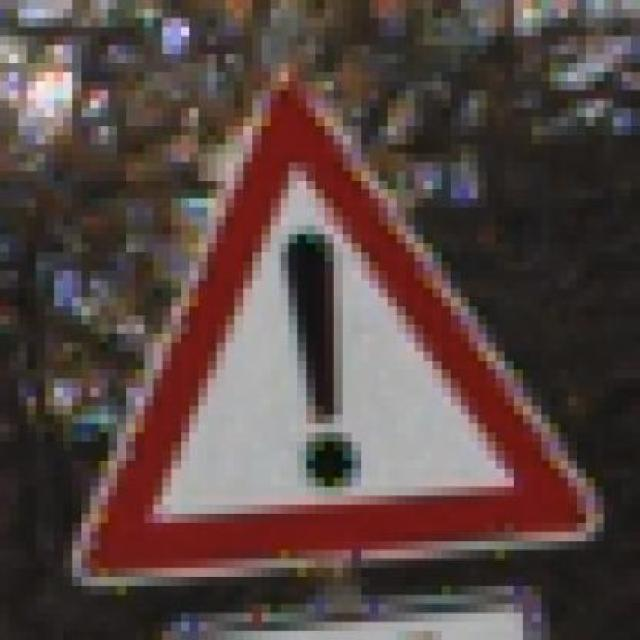Attention Please-: (72, 63, 613, 586)
